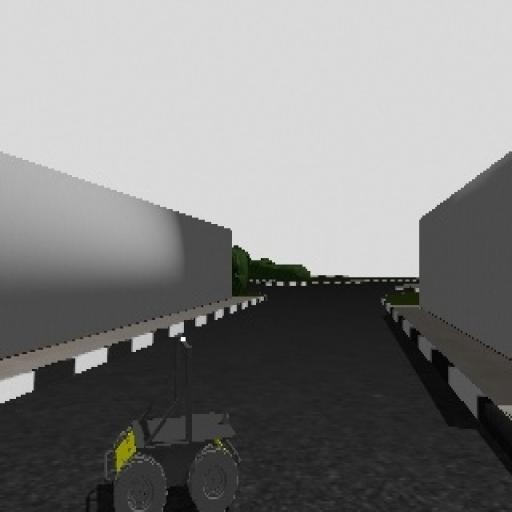huskya200: (99, 318, 244, 508)
